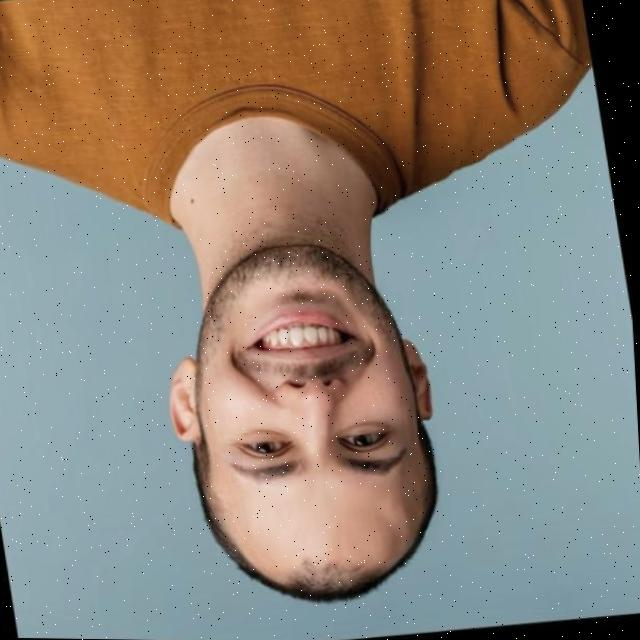puffy_eyes: (340, 423, 394, 437), (235, 430, 283, 445)
